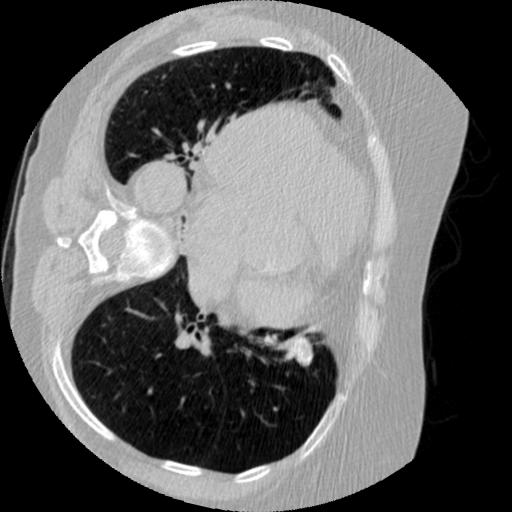nodule: (285, 336, 320, 371)
